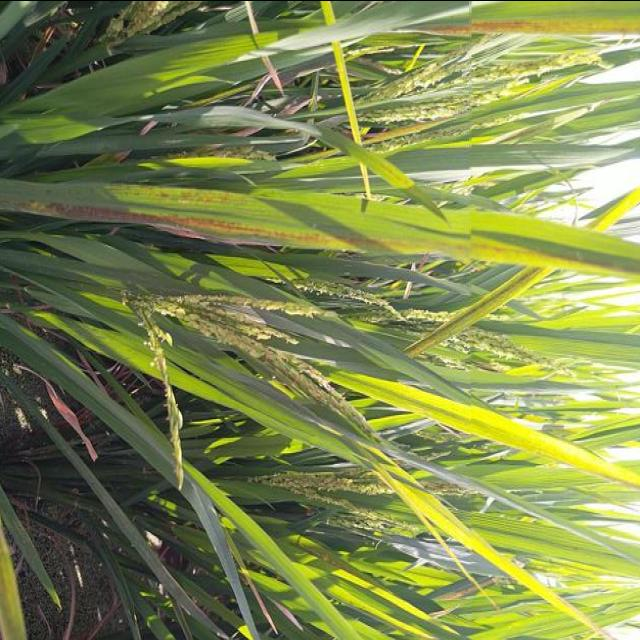Leaf Streak: (12, 199, 357, 251), (405, 19, 637, 35)
